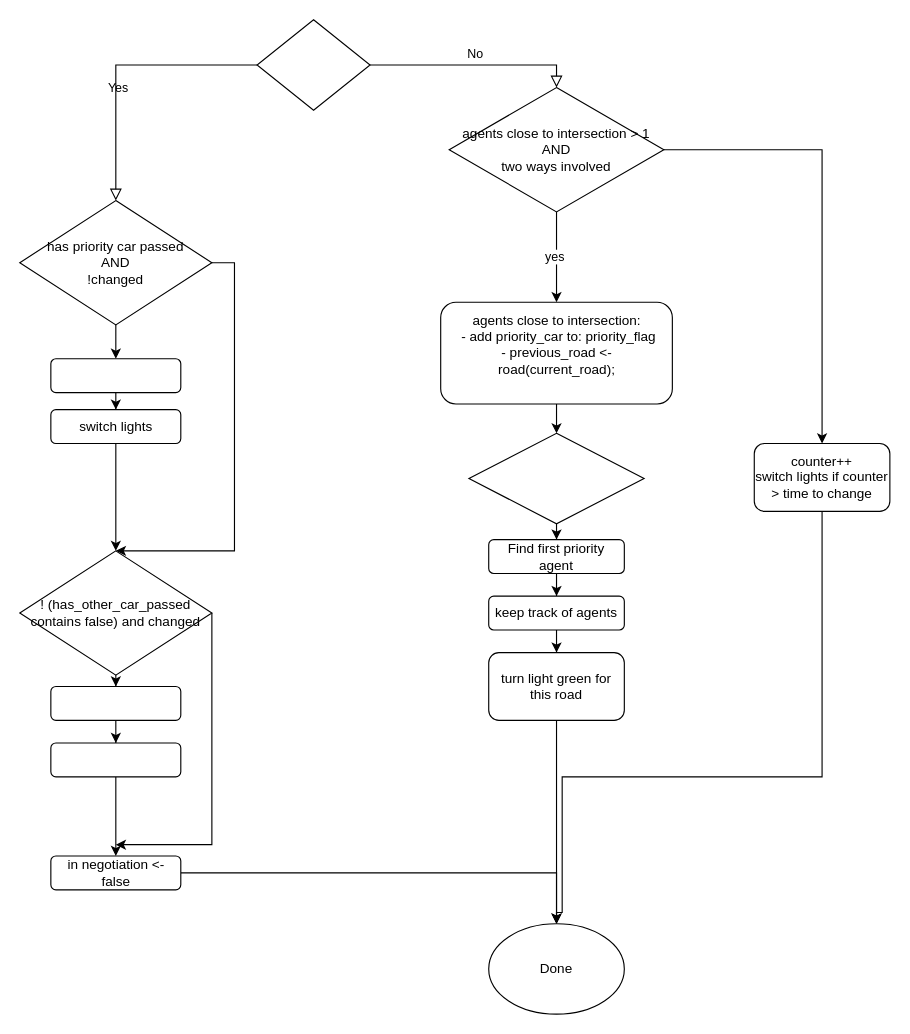
Image size: 910x1034. Some labels were removed from this diagram. Each missing label, with the centre of its shape:
changed = true: the point at 115,375
in negotation?: the point at 313,64
priority_flag contains 1: the point at 556,478
reset variables: the point at 115,759
status priority and other agents <- false: the point at 115,702
